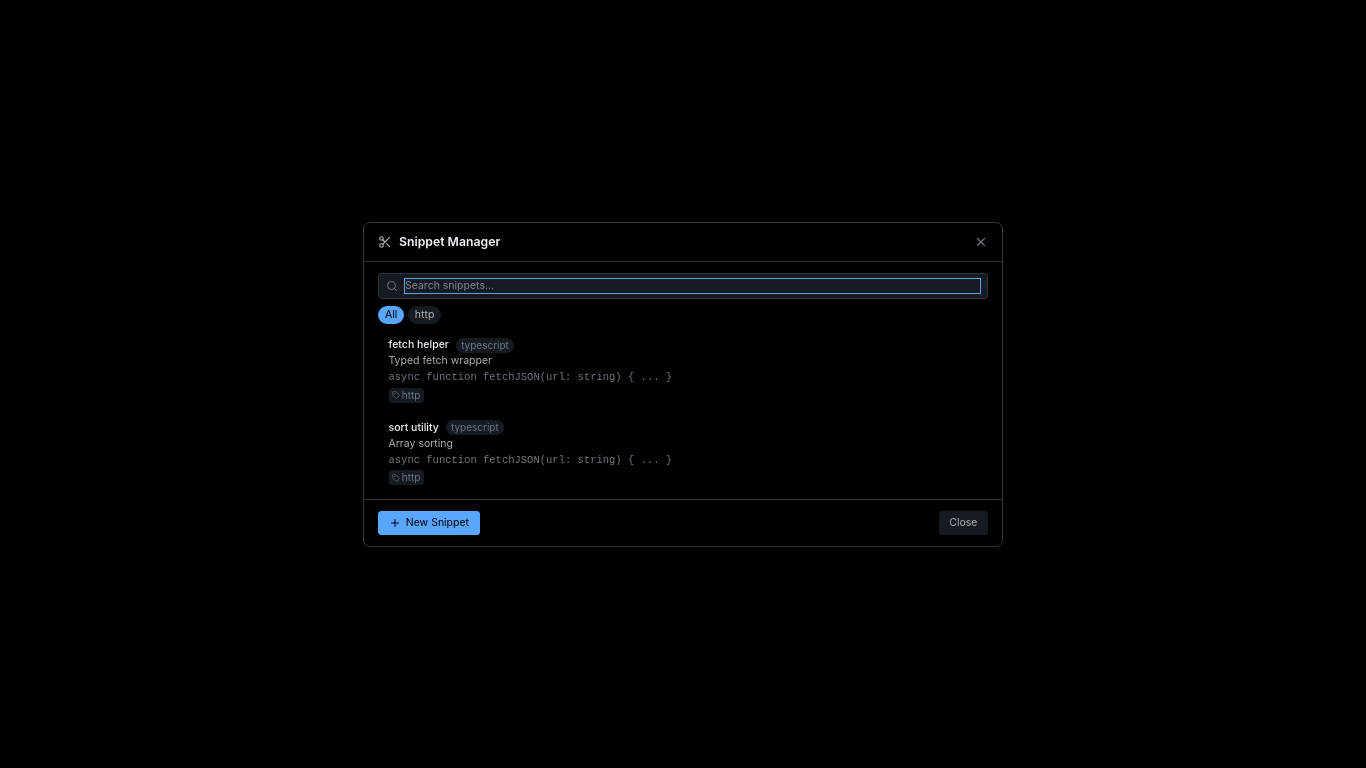
Test: SnippetManagerDialog › filters snippets by search query
expect the text "fetch helper" is shown: met, box x1=388 y1=338 x2=449 y2=352
Type "sort" into the field with placeholder "Search snippets..." at (692, 286), box x1=405 y1=279 x2=980 y2=293
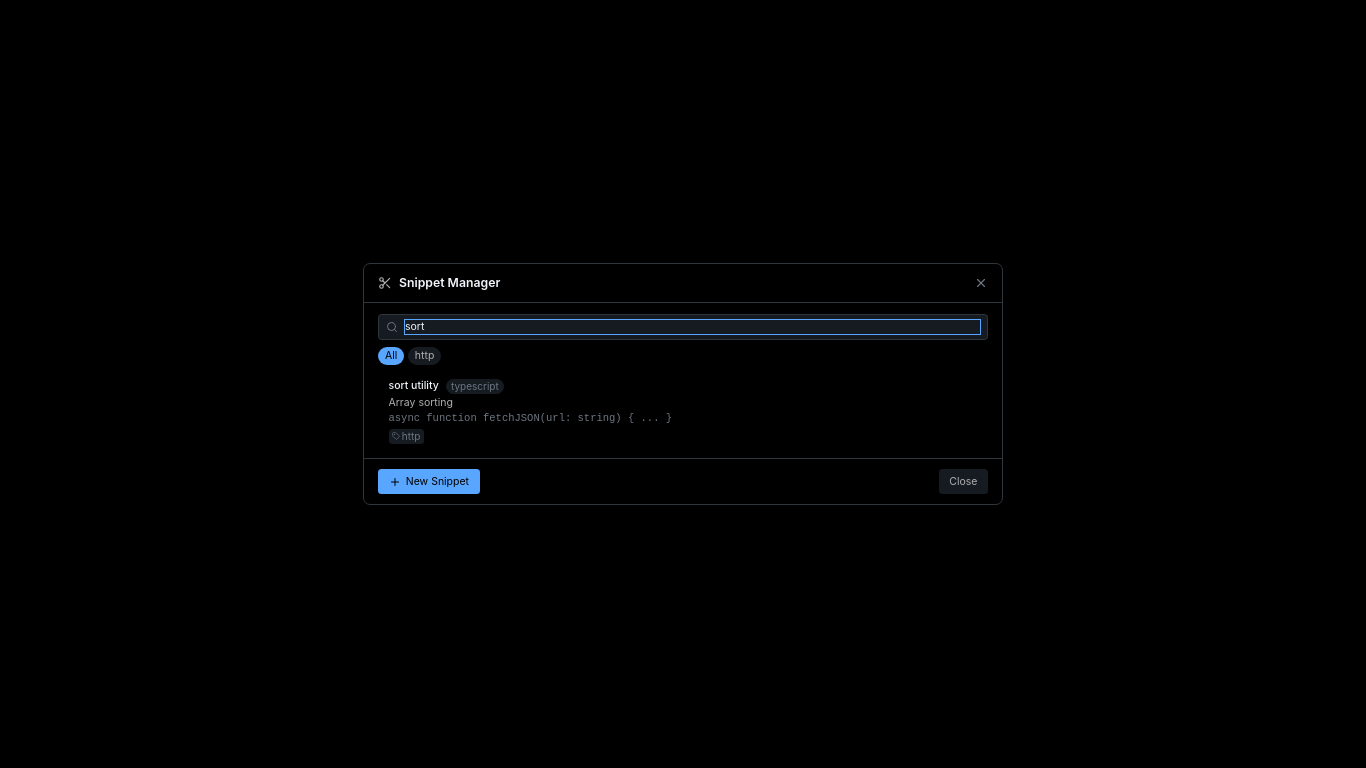
expect the text "sort utility" is shown: met, box x1=388 y1=379 x2=439 y2=393
expect the button "fetch helper" is gone: met
